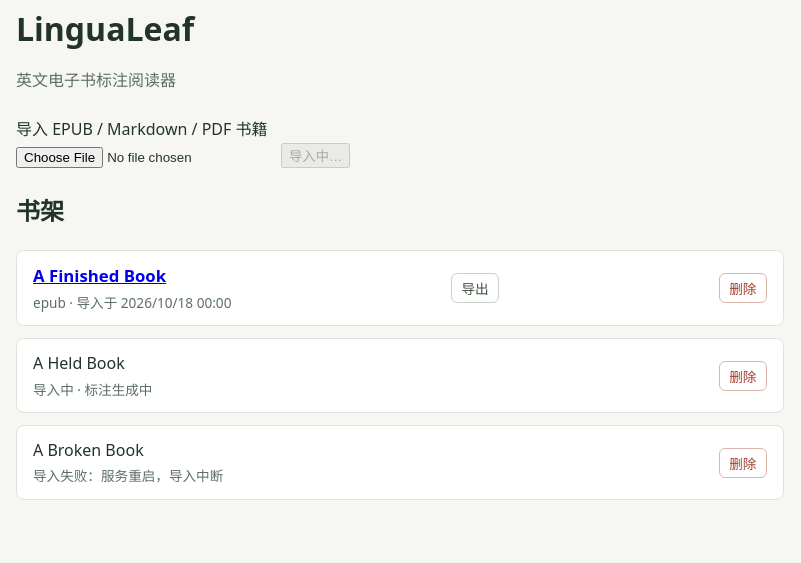
BookshelfPage export (ticket 03) › reports a not-ready book on 409 and saves no file
Click the button with aria-label "导出《A Finished Book》": [475, 288] box [451, 273, 499, 303]
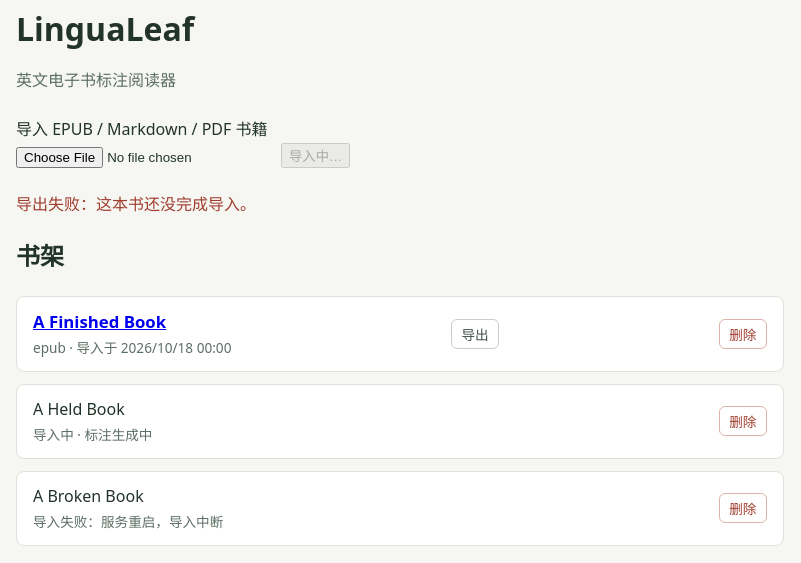
Expected: the message reads "导出失败：这本书还没完成导入。", [16, 193, 256, 215]
